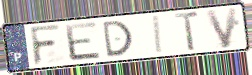D: (100, 19, 134, 59)
E: (63, 21, 104, 63)
F: (28, 23, 63, 67)
I: (152, 14, 165, 55)
T: (173, 10, 201, 53)
V: (204, 6, 240, 50)
